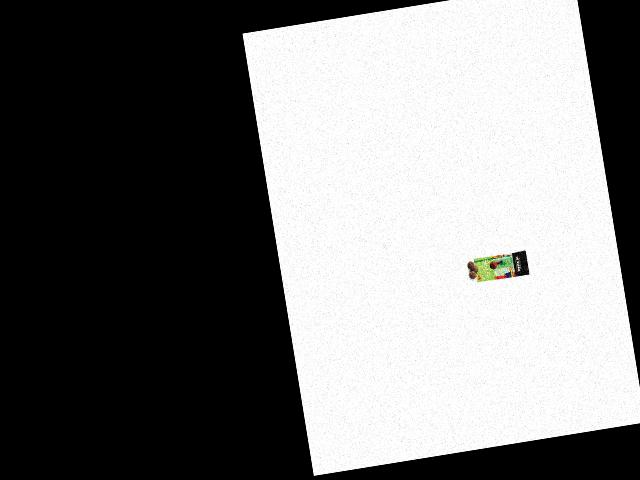chocolate: (471, 244, 532, 286)
